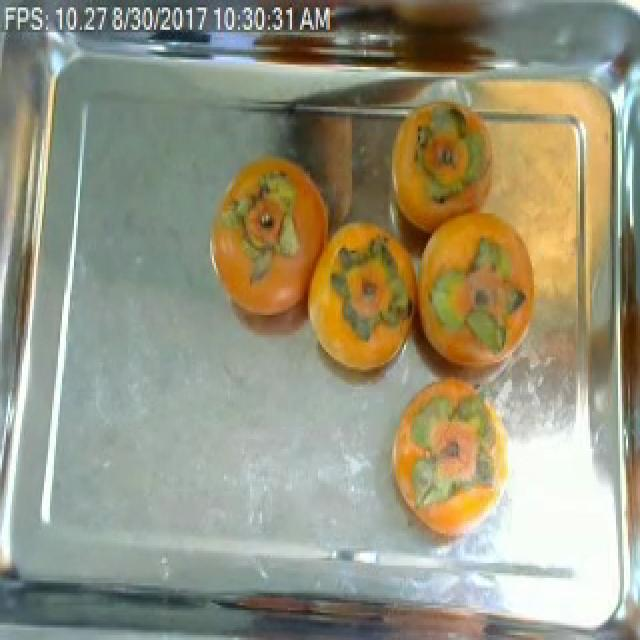Fruit: (198, 141, 342, 335), (394, 369, 522, 504)
